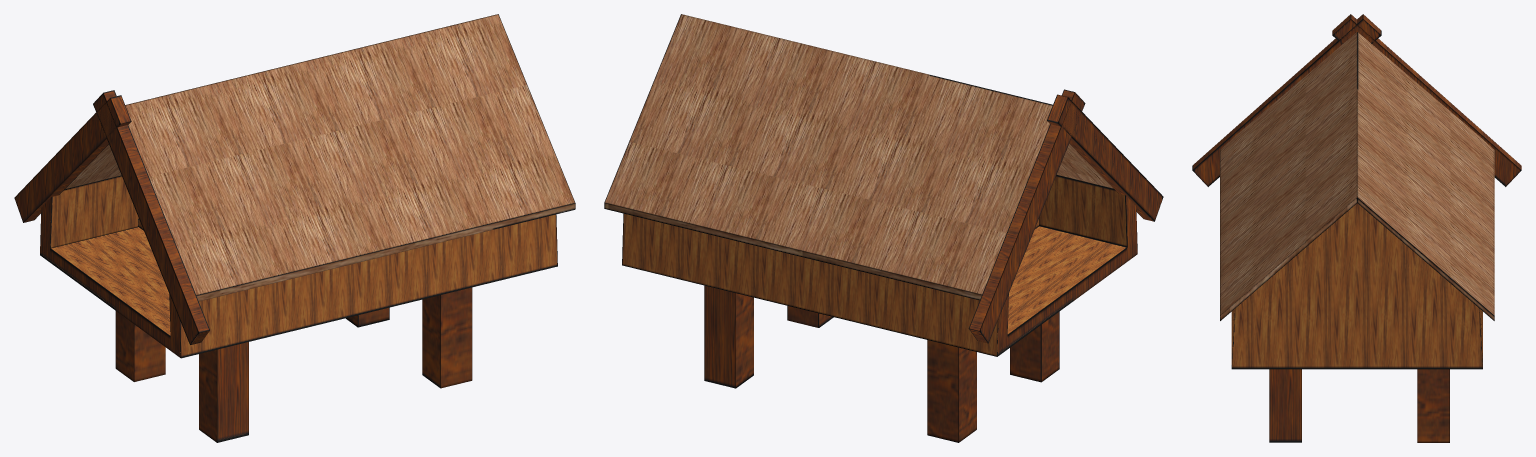
Rendered from Maori_Storehouse.dae.
3 renders of one model, left to right at view 1: azimuth 30°, elevation 25°; view 2: azimuth 150°, elevation 25°; view 3: azimuth 270°, elevation 25°, orthographic. The views are drawn at different scales.
Parts seen in each view (by area): view 1: Cube.005; view 2: Cube.005; view 3: Cube.005.
Part boxes in pixels (<box>): Cube.005: <box>14,14,575,442</box>; Cube.005: <box>604,14,1163,442</box>; Cube.005: <box>1192,14,1521,442</box>.
Size of the model in its own units: 13.26 by 10.82 by 10.55.
1 material, 1 textured.
